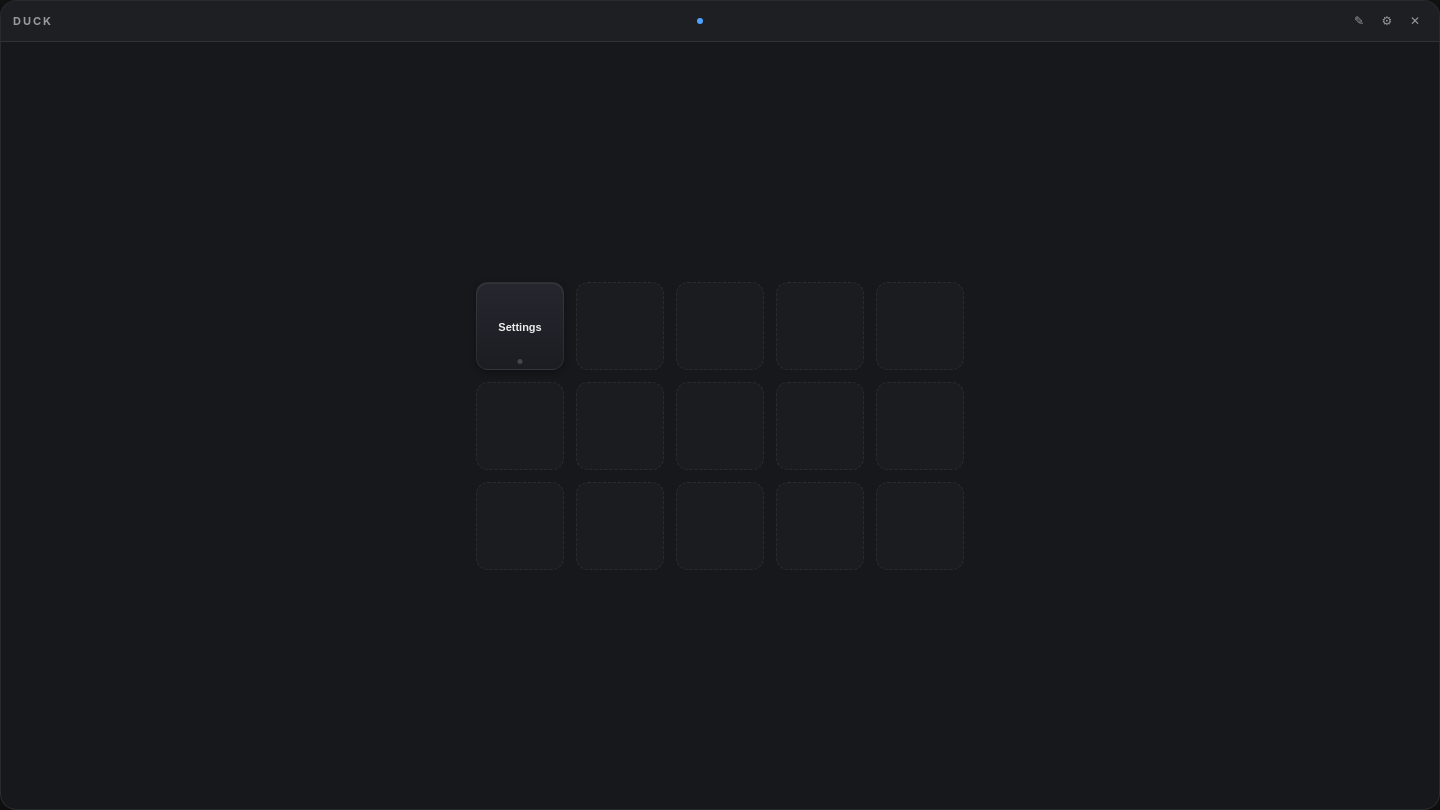
Test: App › opens the settings panel via a custom action button
Click the button "Settings" at (520,326), box x1=476 y1=282 x2=564 y2=370
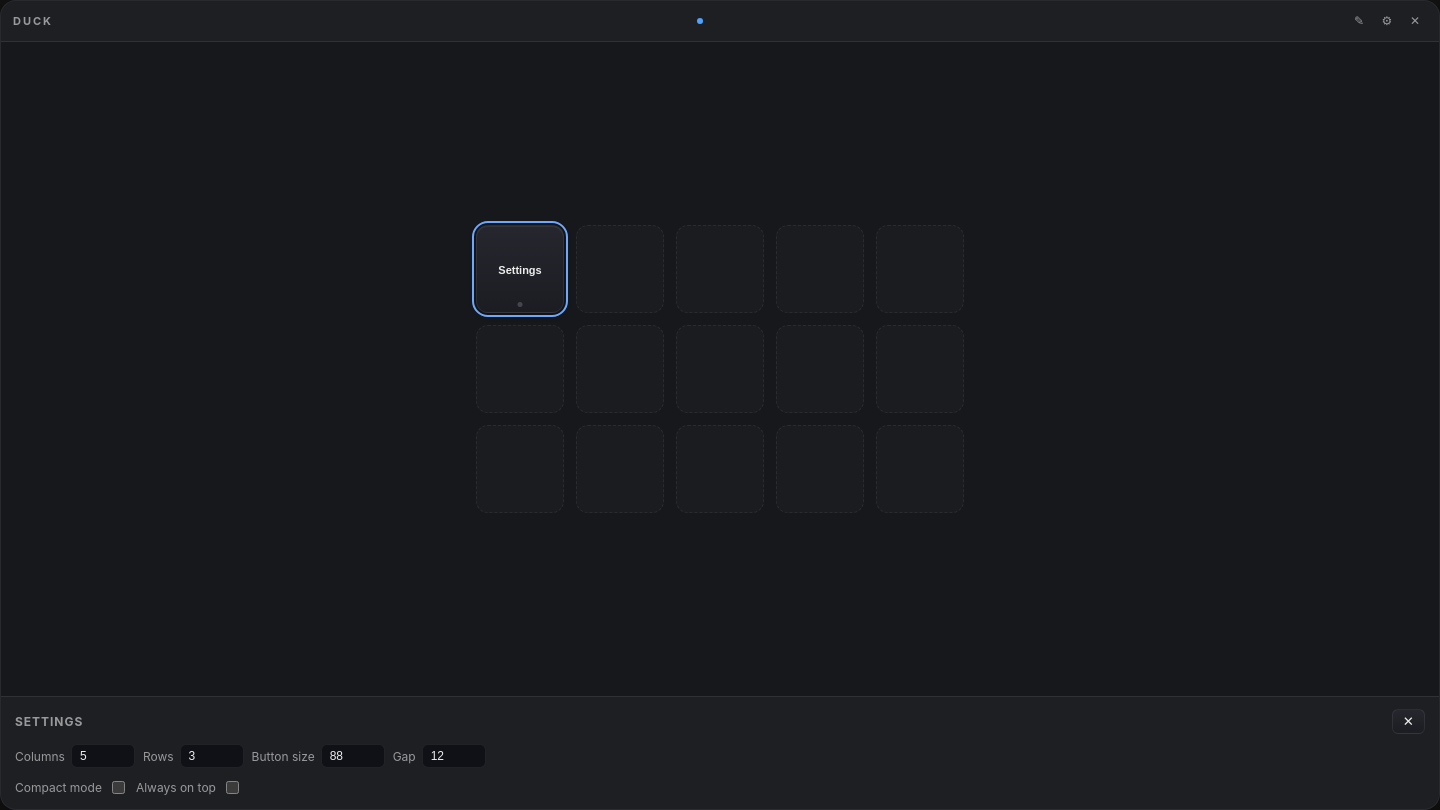
Expected: the dialog named "Deck settings" is shown, x1=1 y1=696 x2=1439 y2=809
